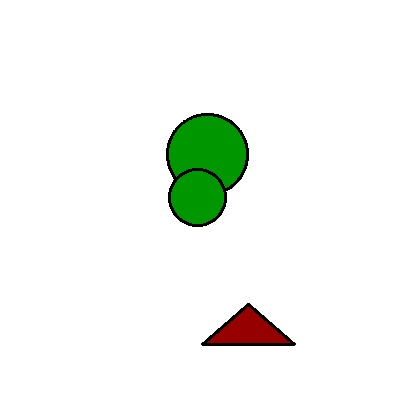circle: (165, 114, 250, 194), (169, 157, 226, 238)
triangle: (202, 304, 294, 344)
